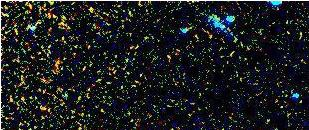star: (208, 9, 238, 39)
